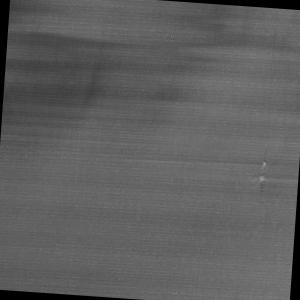Damage: (251, 148, 275, 207)
Wrinkle: (1, 1, 260, 167)
